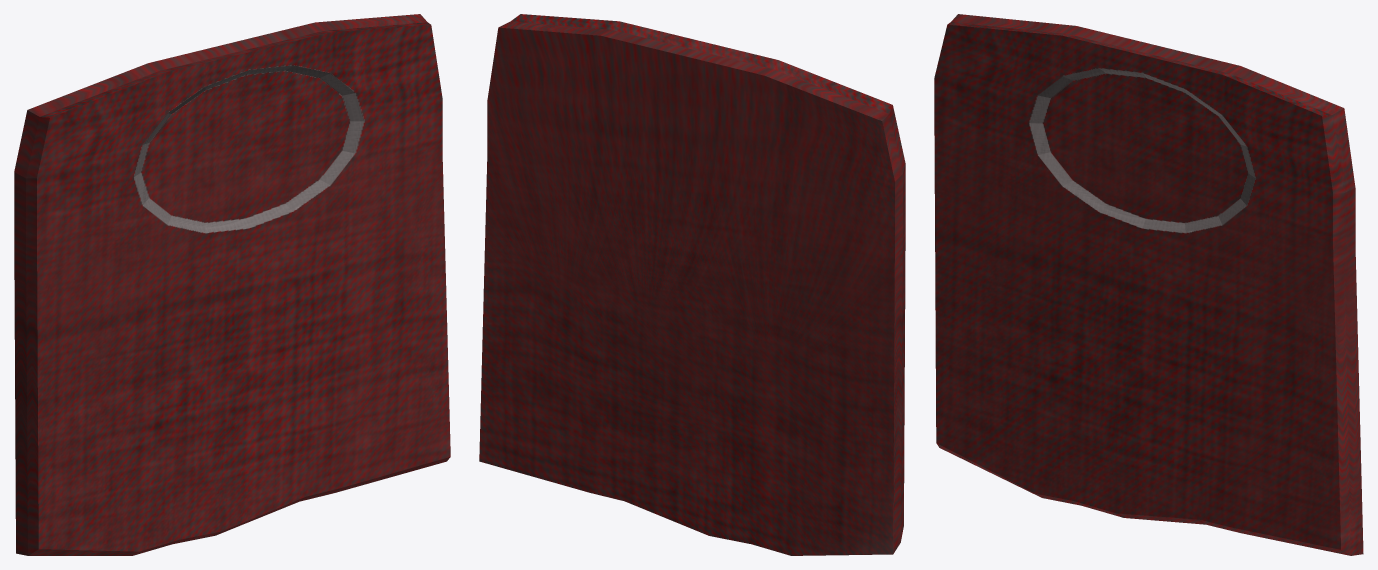
Rendered from sueter.fbx.
The picture shows the model from 3 angles, left to right: view 1: azimuth 30°, elevation 25°; view 2: azimuth 150°, elevation 25°; view 3: azimuth 330°, elevation 25°; orthographic projection. The views are drawn at different scales.
Parts seen in each view (by area): view 1: camiseta.001; view 2: camiseta.001; view 3: camiseta.001.
Boxes of the visible parts, x1,y1,x2,y2 form: camiseta.001: (14, 14, 450, 555); camiseta.001: (479, 14, 905, 555); camiseta.001: (934, 14, 1363, 555).
Size of the model in its own units: 31.68 by 34.72 by 2.21.
